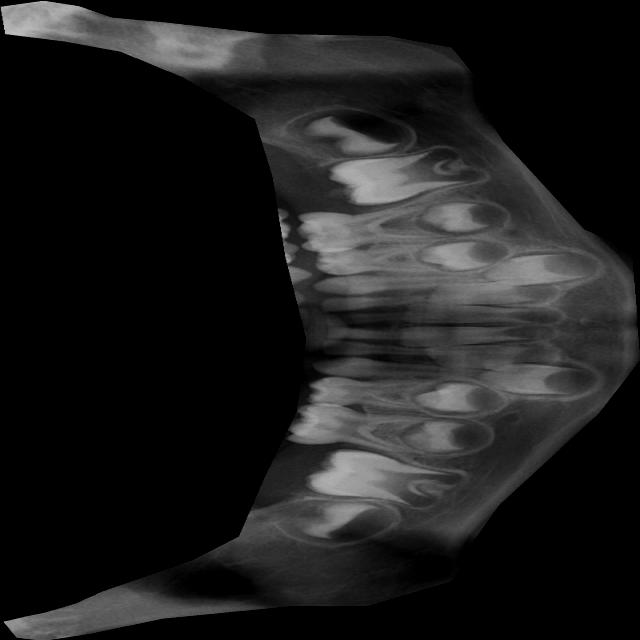mandibula: (0, 0, 640, 640)
